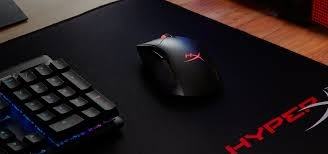keyboard: (0, 45, 131, 154)
mouse: (133, 24, 239, 106)
